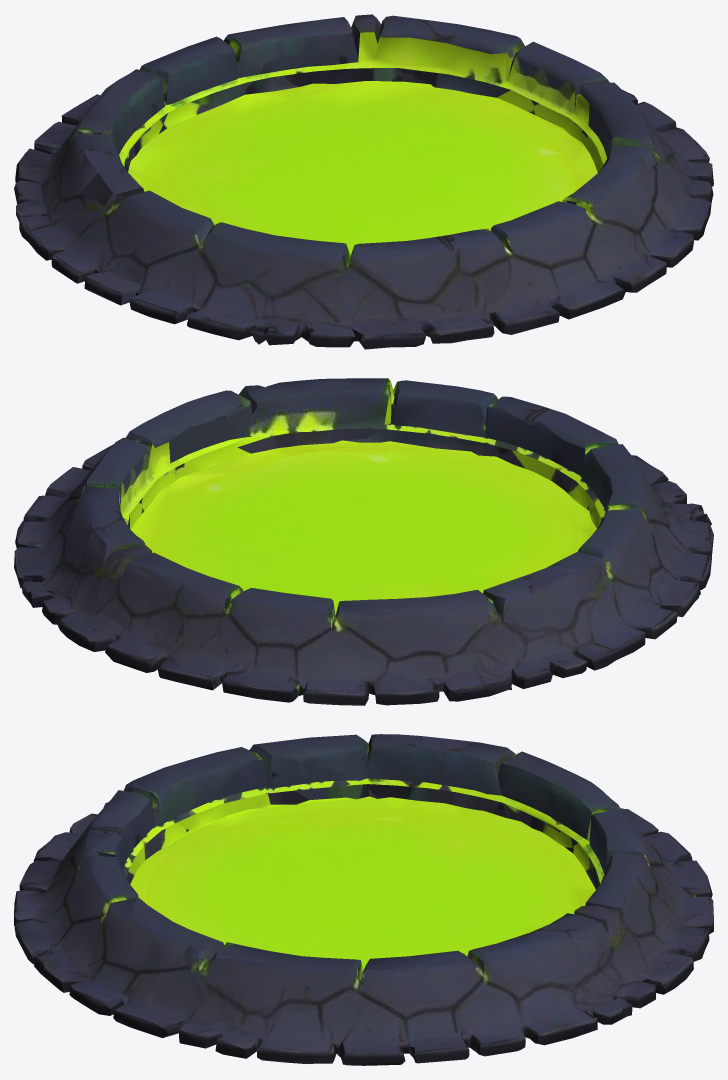
File: toxic_pool.glb
The picture shows the model from 3 angles, top to bottom: view 1: azimuth 30°, elevation 25°; view 2: azimuth 150°, elevation 25°; view 3: azimuth 270°, elevation 25°; orthographic projection.
Parts seen in each view (by area): view 1: toxic_pool; view 2: toxic_pool; view 3: toxic_pool.
Part boxes in pixels (left/top/right/bottom): toxic_pool: left=14, top=14, right=713, bottom=349; toxic_pool: left=14, top=378, right=713, bottom=705; toxic_pool: left=14, top=734, right=713, bottom=1065.
Size of the model in its own units: 1 by 0.1056 by 0.9947.
Materials: 1 (1 with a texture image).
